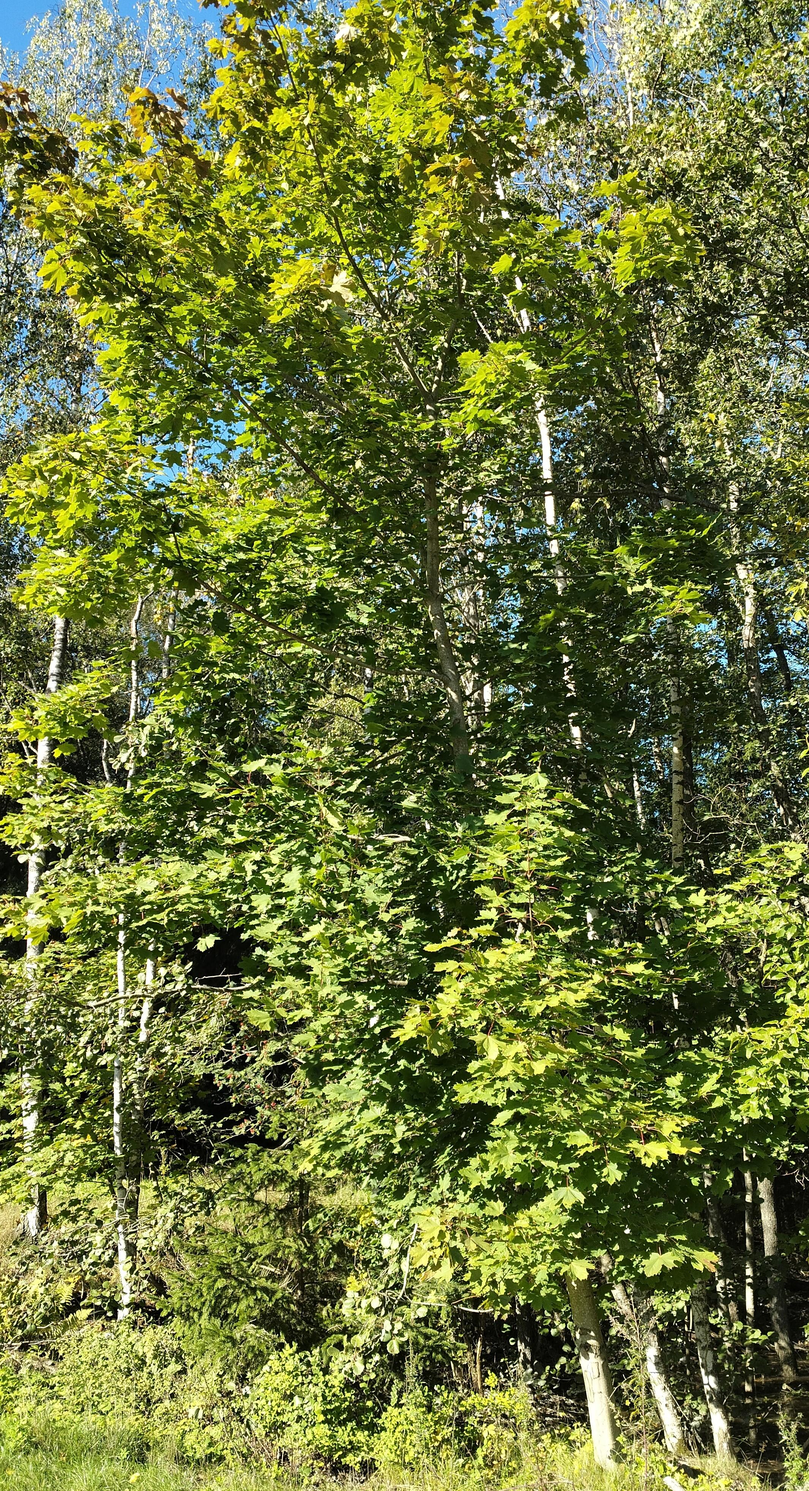Maple: (79, 0, 641, 1464)
